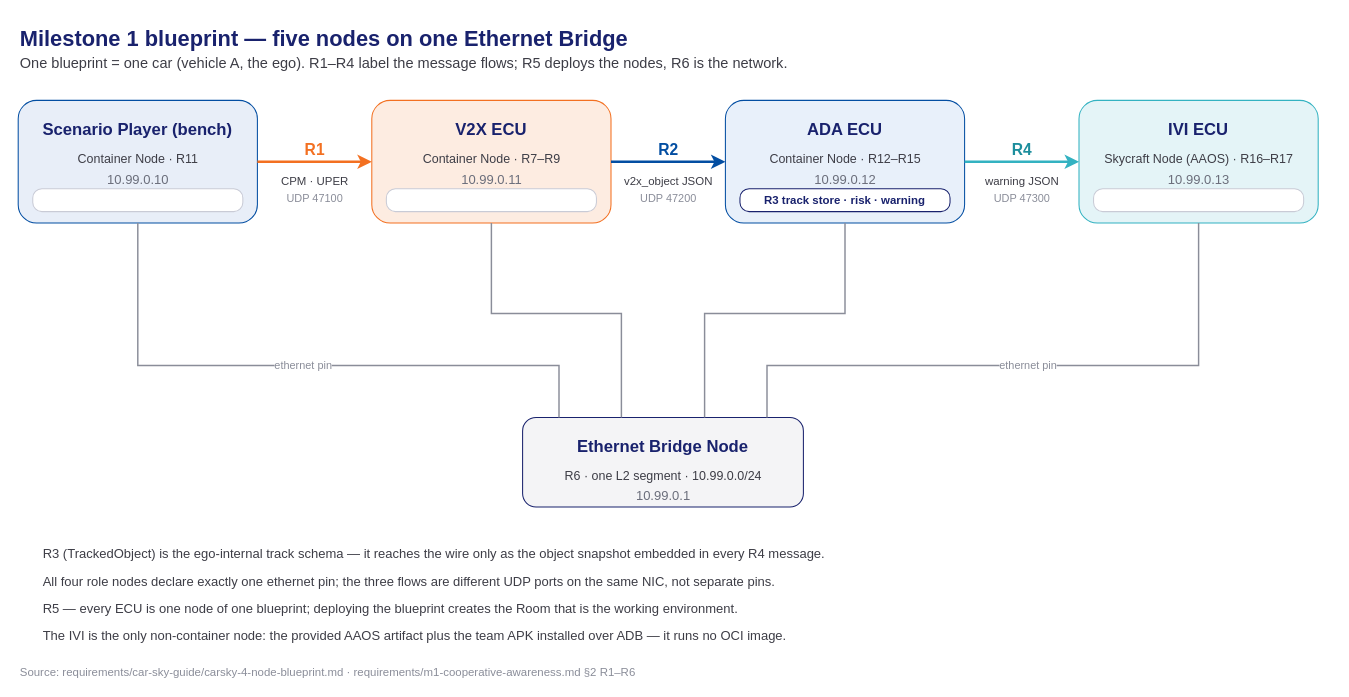
The diagram is 1349 pixels wide and 697 high, and some of its shapes have lost their labels. The centre of each missing label's shape, as x and y in pixels:
"decode · validate · forward" goes at pixel 490 200.
"god-view HMI · APK via ADB" goes at pixel 1198 200.
"scenario configs → CPM stream" goes at pixel 137 200.
